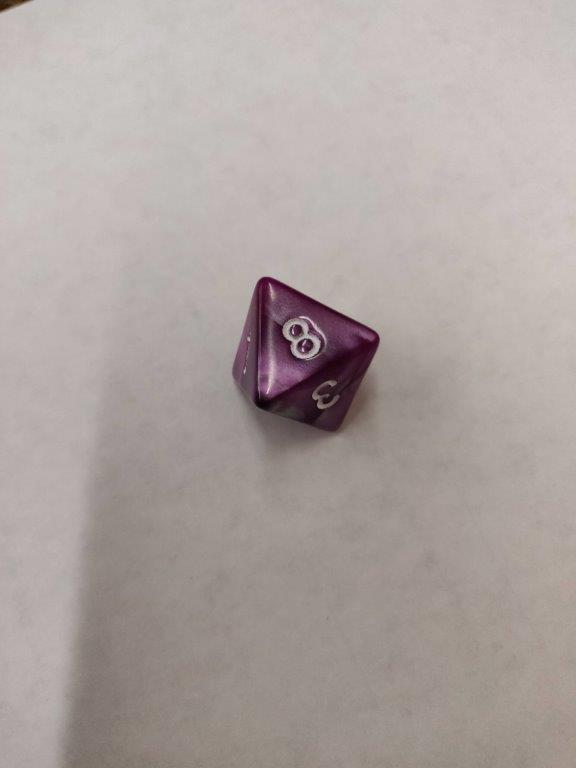d8-8: (228, 275, 384, 436)
